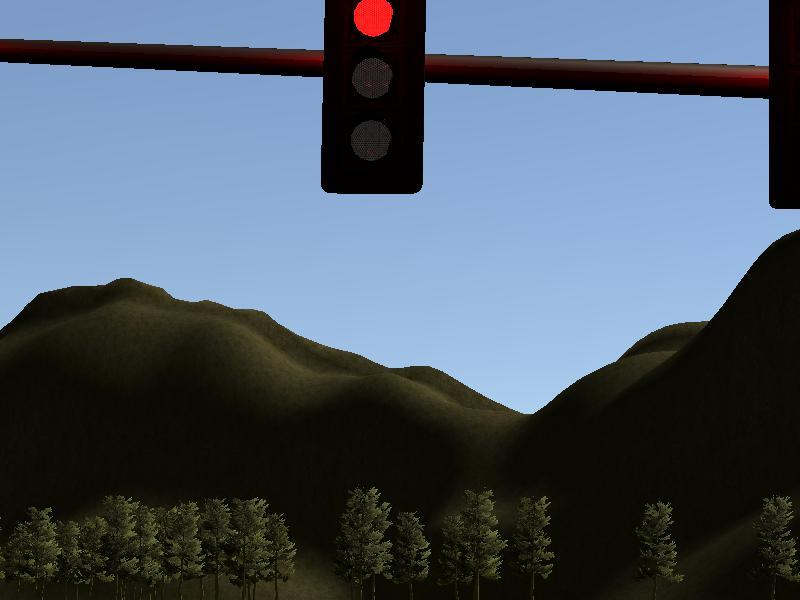Red: (321, 1, 425, 193)
